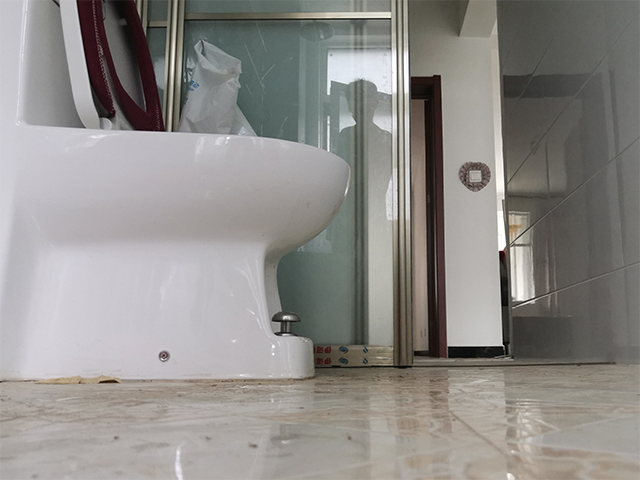closestool: (1, 1, 353, 383)
